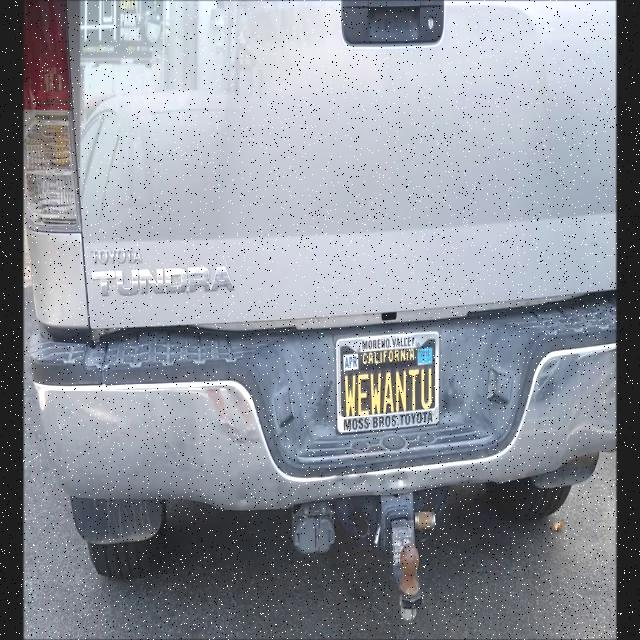licenseplate: (334, 338, 442, 430)
